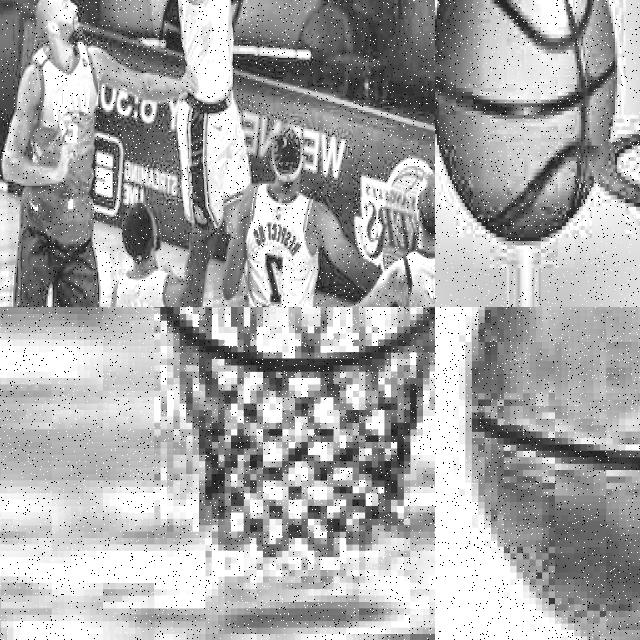Basketball: (465, 307, 640, 640), (435, 0, 615, 243)
